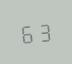six: (19, 21, 35, 44)
three: (36, 20, 52, 42)
